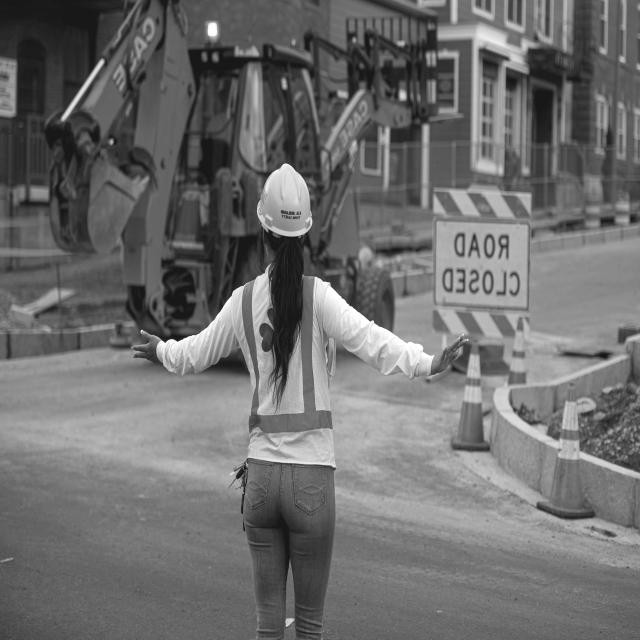hand_noglove: (413, 321, 472, 387), (126, 313, 169, 372)
head_helmet: (250, 166, 318, 238)
person: (238, 166, 342, 640)
vest: (238, 274, 334, 500)
